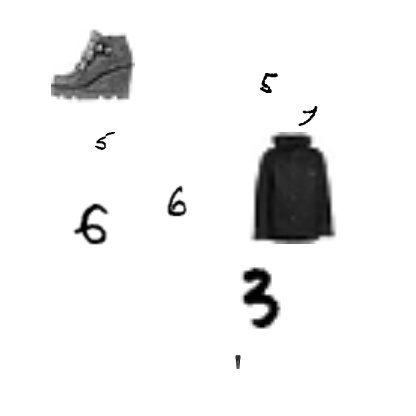3: (217, 253, 301, 337)
5: (89, 127, 117, 155), (253, 68, 281, 96)
6: (63, 196, 119, 252), (155, 183, 197, 225)
7: (295, 101, 323, 129)
Ankle_boot: (51, 24, 135, 108)
Coat: (235, 132, 347, 244)
Trouser: (231, 355, 245, 369)
